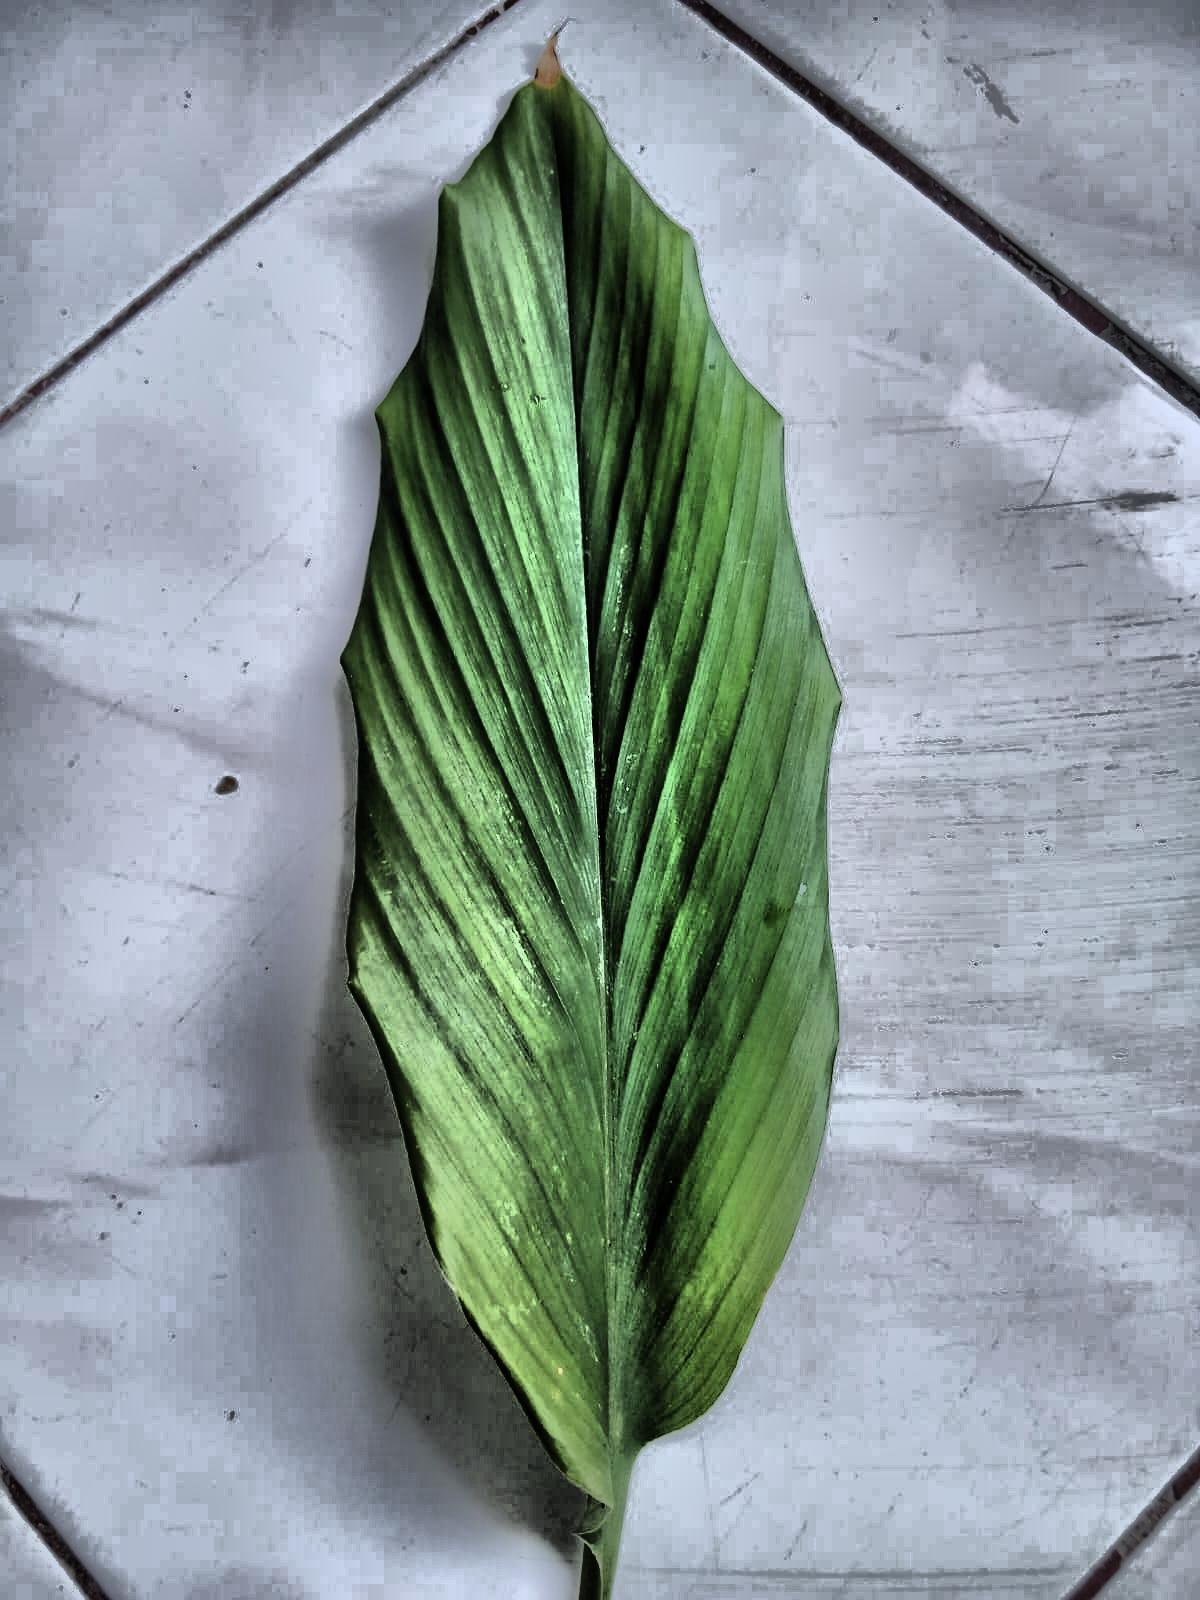daun kunyit: (343, 49, 839, 1599)
